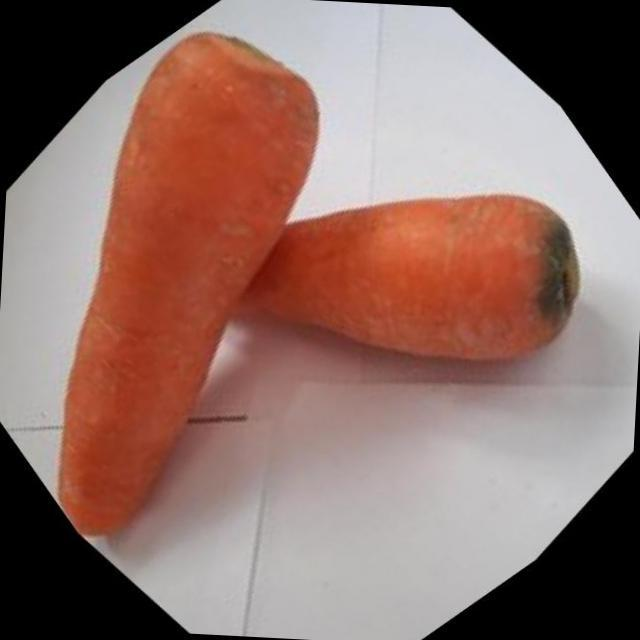carrot: (0, 0, 533, 579), (168, 27, 640, 534)
